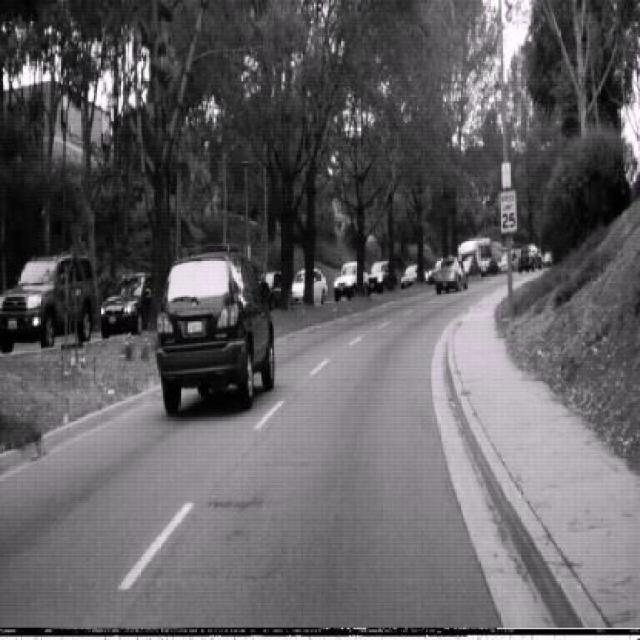speedLimit25: (500, 188, 518, 235)
